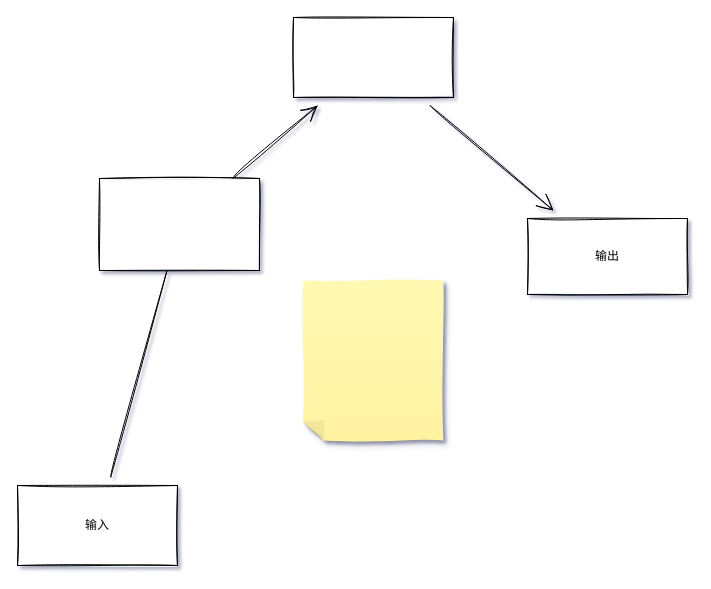
This 711x589 diagram has some shape labels left out. Here are the shapes that lost their labels. From the top down, the centre of each, then its label:
At [373,57]: "处理".
At [179,224]: "存储".
